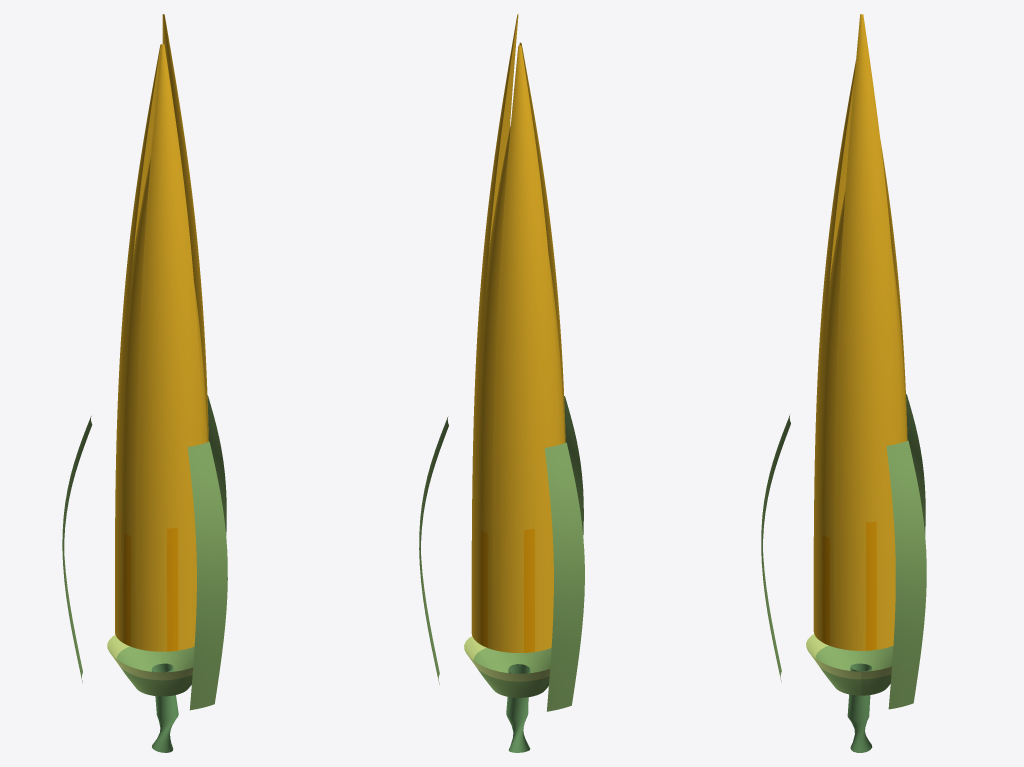
File: daylily-bloom-original-2026-06-15.glb
The picture shows the model from 3 angles, left to right: view 1: azimuth 30°, elevation 25°; view 2: azimuth 150°, elevation 25°; view 3: azimuth 270°, elevation 25°; orthographic projection.
Parts seen in each view (by area): view 1: daylily_tepal_03, daylily_sepal_03, daylily_tepal_05, daylily_tepal_02, clean_green_calyx_cup, daylily_tepal_01, single_short_flower_stalk, daylily_tepal_06, daylily_sepal_02, daylily_sepal_01; view 2: daylily_tepal_02, daylily_tepal_04, daylily_sepal_02, daylily_tepal_01, clean_green_calyx_cup, daylily_tepal_03, daylily_tepal_05, single_short_flower_stalk, daylily_sepal_01, daylily_sepal_03; view 3: daylily_tepal_01, daylily_sepal_01, daylily_tepal_06, daylily_tepal_03, clean_green_calyx_cup, daylily_tepal_04, single_short_flower_stalk, daylily_sepal_03, daylily_sepal_02, daylily_tepal_02.
Part boxes in pixels (x1,y1,x2,y2): daylily_tepal_03: [135, 44, 201, 651]; daylily_sepal_03: [187, 441, 227, 710]; daylily_tepal_05: [115, 157, 158, 651]; daylily_tepal_02: [115, 44, 161, 639]; clean_green_calyx_cup: [107, 635, 194, 696]; daylily_tepal_01: [162, 14, 208, 441]; single_short_flower_stalk: [151, 663, 178, 752]; daylily_tepal_06: [182, 283, 207, 649]; daylily_sepal_02: [62, 416, 92, 683]; daylily_sepal_01: [207, 395, 226, 534]; daylily_tepal_02: [492, 45, 558, 652]; daylily_tepal_04: [472, 124, 518, 652]; daylily_sepal_02: [544, 442, 584, 711]; daylily_tepal_01: [471, 14, 518, 640]; clean_green_calyx_cup: [464, 636, 551, 697]; daylily_tepal_03: [519, 42, 565, 442]; daylily_tepal_05: [539, 256, 564, 650]; single_short_flower_stalk: [506, 664, 530, 752]; daylily_sepal_01: [419, 416, 448, 684]; daylily_sepal_03: [564, 396, 583, 534]; daylily_tepal_01: [834, 14, 900, 650]; daylily_sepal_01: [886, 440, 926, 709]; daylily_tepal_06: [814, 190, 860, 650]; daylily_tepal_03: [813, 61, 855, 638]; clean_green_calyx_cup: [806, 634, 893, 695]; daylily_tepal_04: [884, 247, 906, 648]; single_short_flower_stalk: [847, 663, 872, 752]; daylily_sepal_03: [761, 415, 790, 681]; daylily_sepal_02: [906, 394, 925, 534]; daylily_tepal_02: [880, 142, 907, 440].
Bounding box in the file's own units: 0.8815 × 2.21 × 0.8519.
